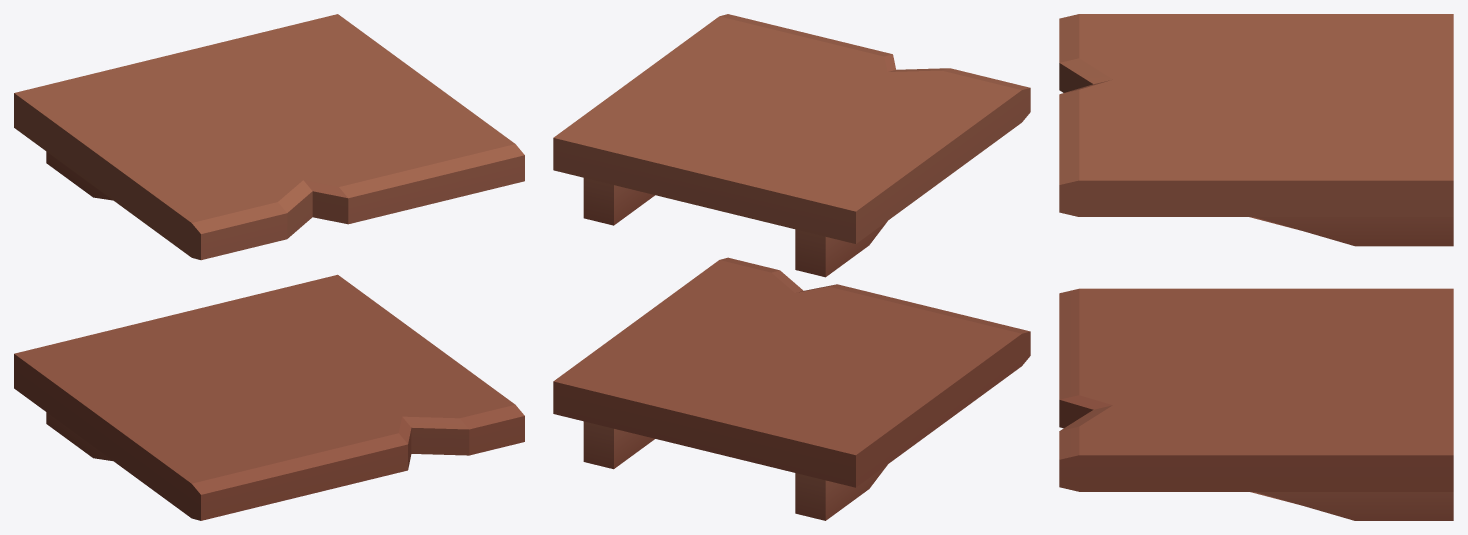
Rendered from shelves.glb.
3 renders of one model, left to right at view 1: azimuth 30°, elevation 25°; view 2: azimuth 150°, elevation 25°; view 3: azimuth 270°, elevation 25°, orthographic. The views are drawn at different scales.
Parts seen in each view (by area): view 1: shelves; view 2: shelves; view 3: shelves.
Boxes of the visible parts, left/top/right/bottom form: shelves: left=14, top=14, right=524, bottom=520; shelves: left=553, top=14, right=1030, bottom=520; shelves: left=1059, top=14, right=1453, bottom=520.
Bounding box in the file's own units: 1 × 1 × 1.
1 material, 1 textured.
